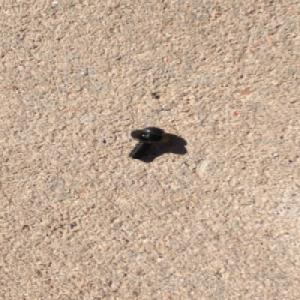BoltWasher: (124, 125, 171, 159)
